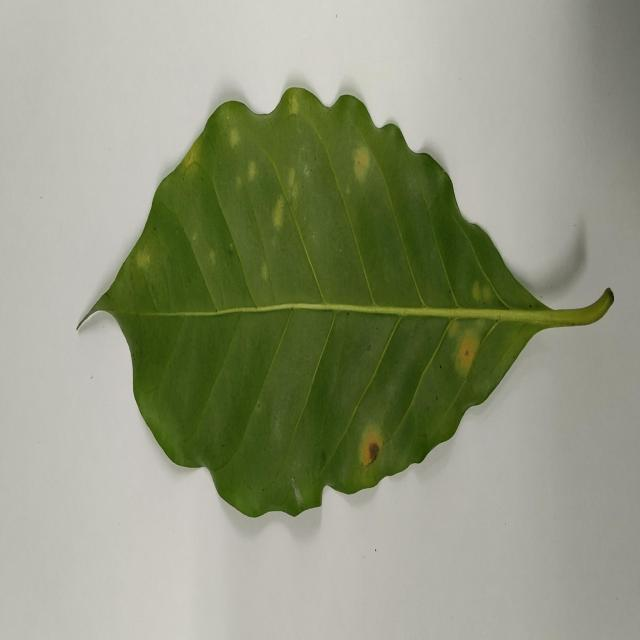Enfermedad-Roya: (78, 88, 615, 520)
